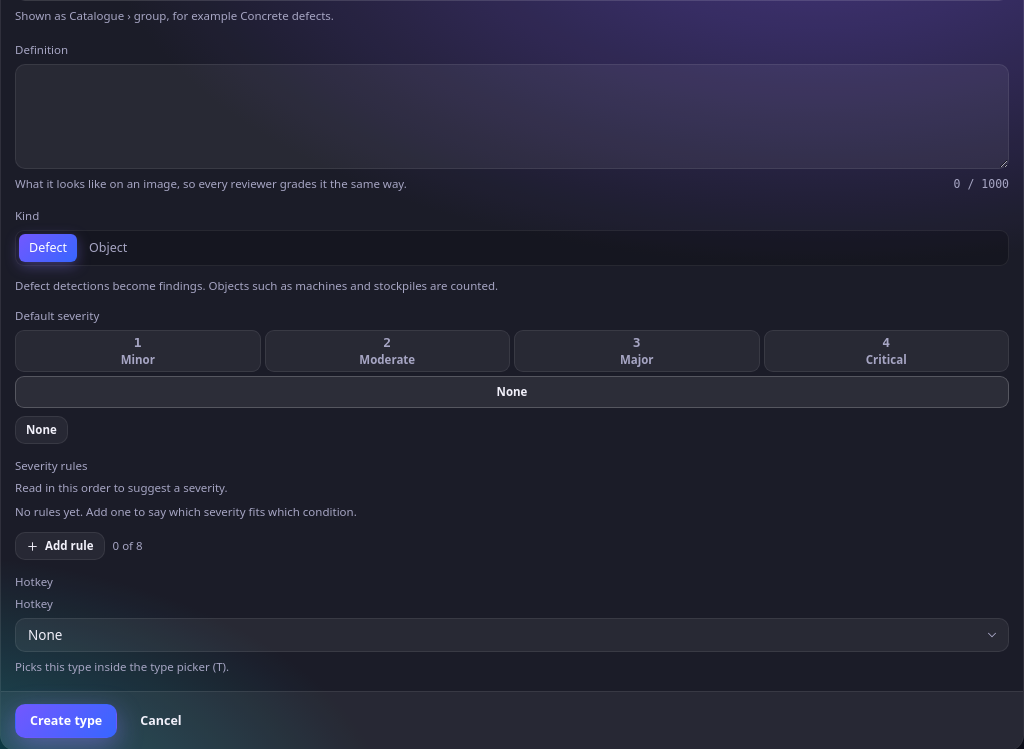
Test case: TypeEditor: definition and severity rules › mentions the Alt+arrow shortcut only once there are two rules to reorder
(page scrolled)
Expected: the text "Read in this order to suggest a severity." is shown, [15,480,228,495]
Expected: the text "Alt+↑ and Alt+↓ move the focused rule" is not shown
Click the button "Add rule". click: [60, 546]
box: [15,532,105,560]
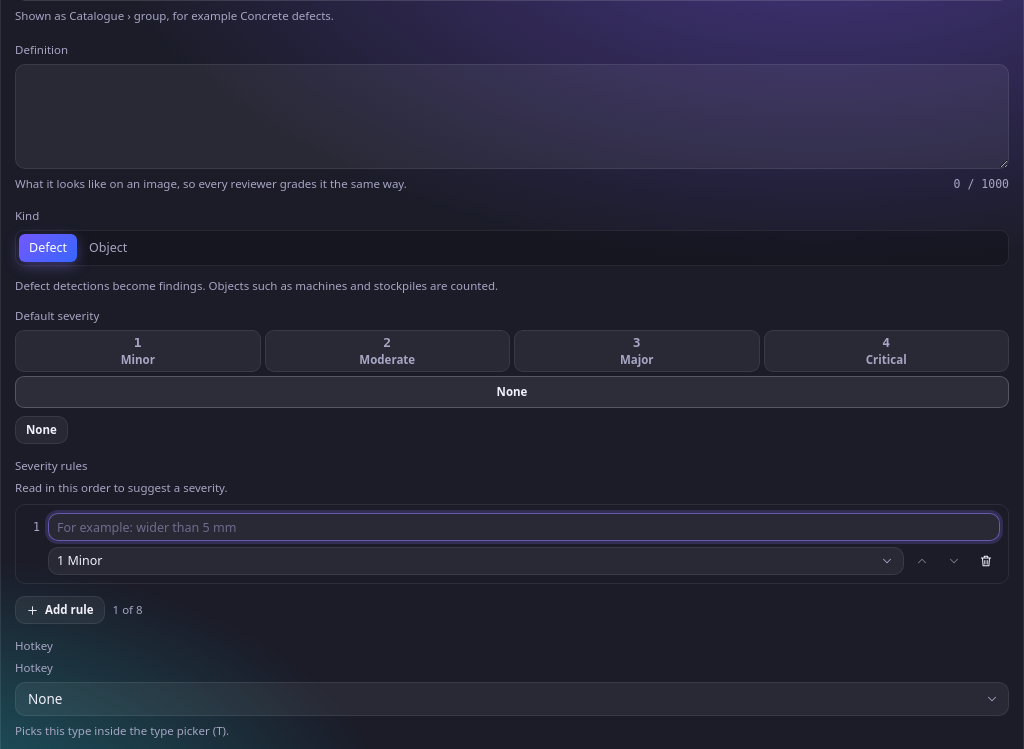
Expected: the text "Alt+↑ and Alt+↓ move the focused rule" is not shown
Click the button "Add rule". click: [60, 610]
box: [15,596,105,624]
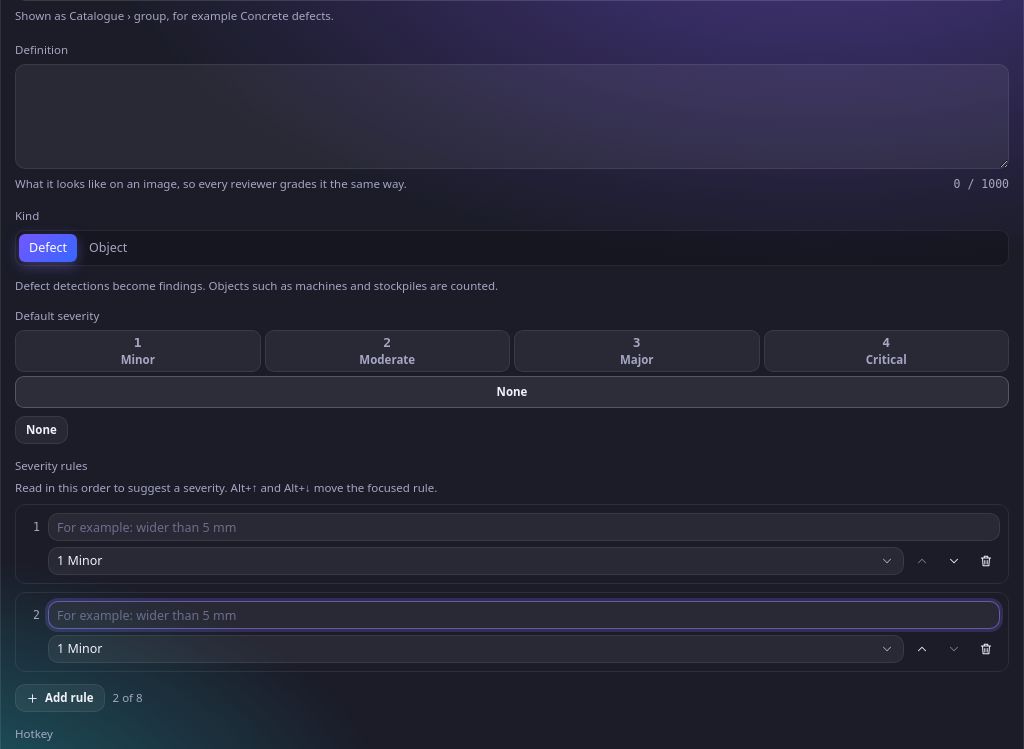
Result: the text "Alt+↑ and Alt+↓ move the focused rule" is shown at [228,480,437,495]
